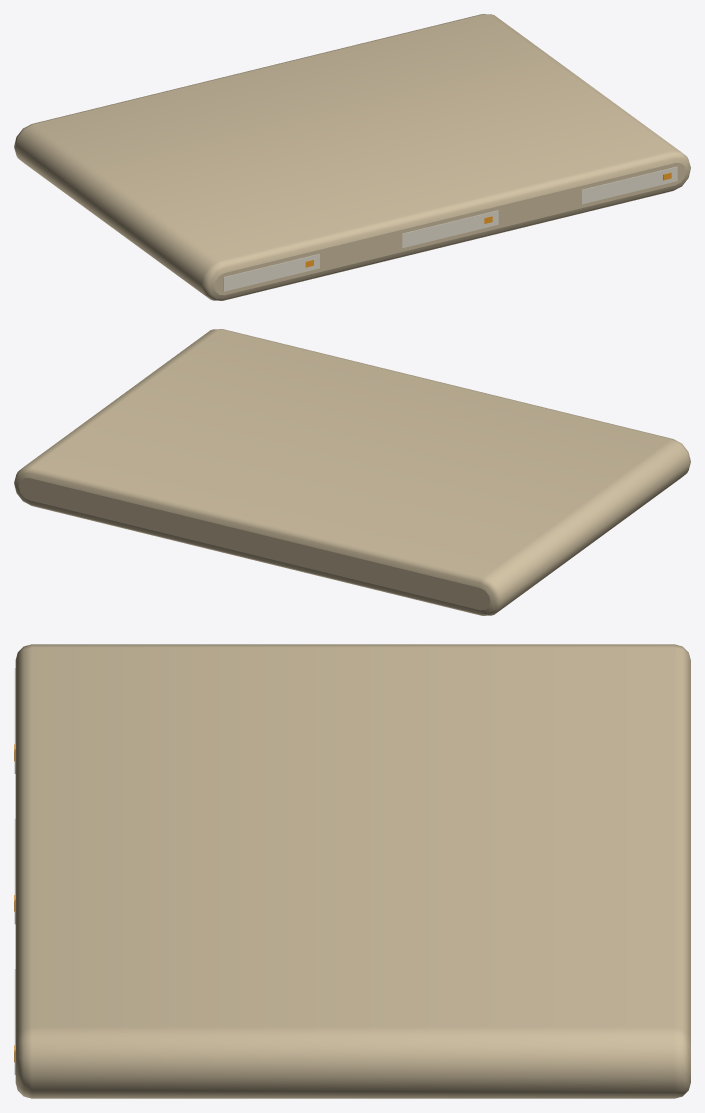
The model's file is t200_cabinet.obj.
3 renders of one model, top to bottom at view 1: azimuth 30°, elevation 25°; view 2: azimuth 150°, elevation 25°; view 3: azimuth 270°, elevation 25°, orthographic. The views are drawn at different scales.
Parts seen in each view (by area): view 1: t200_cabinet; view 2: t200_cabinet; view 3: t200_cabinet.
Part boxes in pixels (bbox=[...]): t200_cabinet: bbox=[14, 14, 690, 300]; t200_cabinet: bbox=[14, 329, 690, 615]; t200_cabinet: bbox=[14, 644, 690, 1098].
Size of the model in its own units: 7.1 by 0.55 by 4.94.
